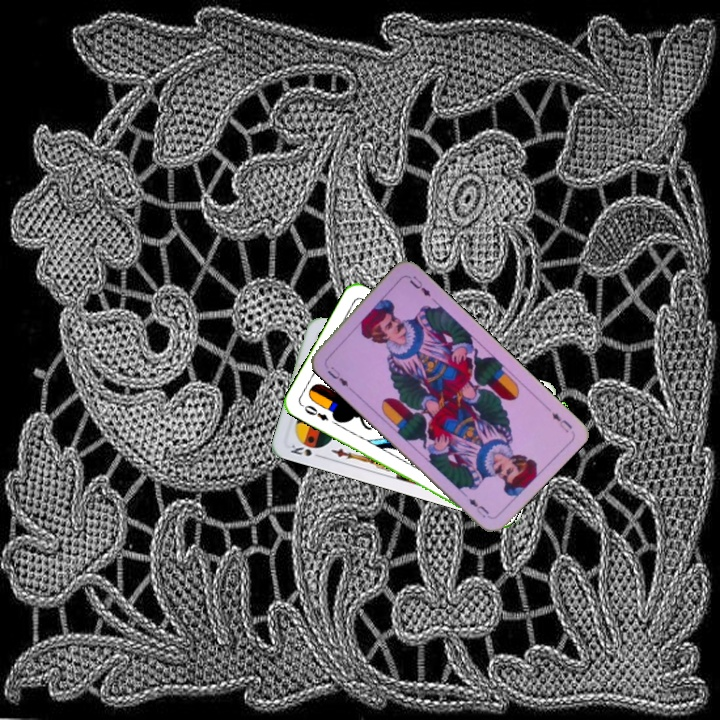EO: (297, 400, 331, 423)
EU: (323, 362, 351, 390), (547, 408, 575, 435)
SK: (286, 439, 325, 461)
